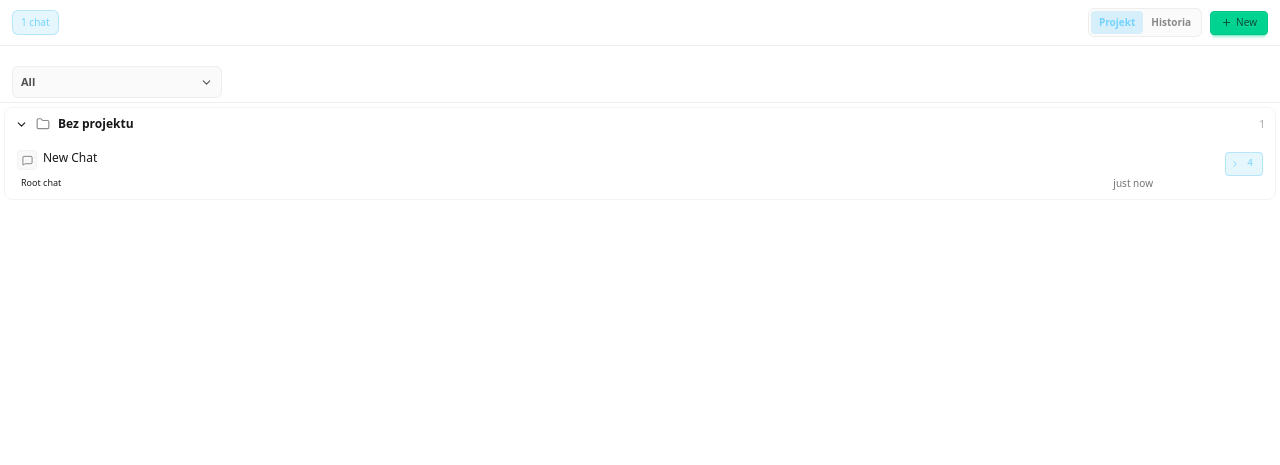
Test case: SessionPanel › expands the full agent tree without replacing the parent chat title
This screenshot has width=1280, height=465.
Expected: the text "New Chat" is shown, [43,149,97,166]
Step 1. Click the button with test id "toggle-session-children-host" → coordinates (1244, 164), box [1225,152,1263,176]
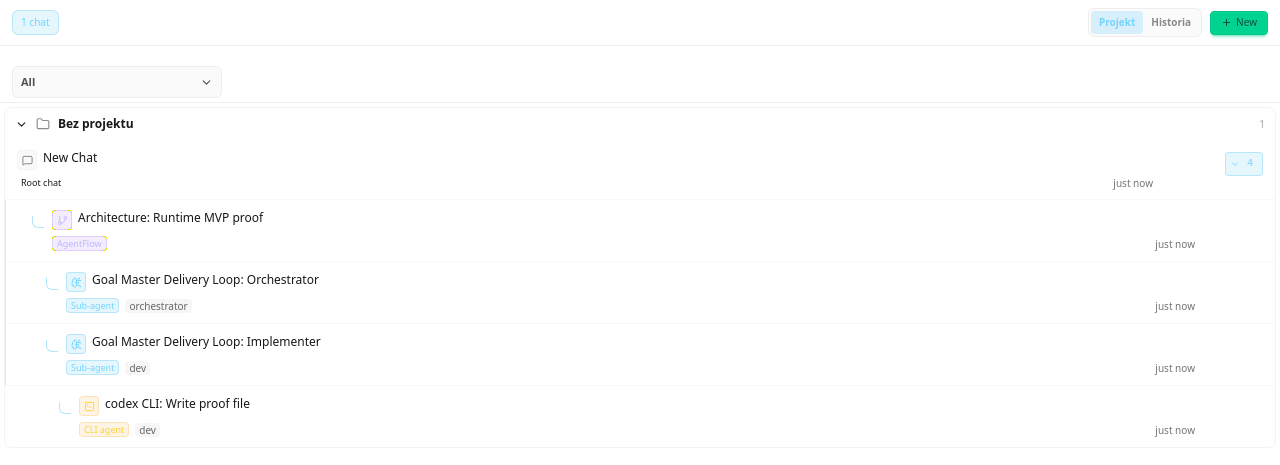
Expected: the text "Architecture: Runtime MVP proof" is shown, [78,209,263,226]
Expected: the text "Goal Master Delivery Loop: Orchestrator" is shown, [92,271,319,288]
Expected: the text "Goal Master Delivery Loop: Implementer" is shown, [92,333,321,350]
